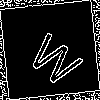W: (25, 25, 90, 89)
